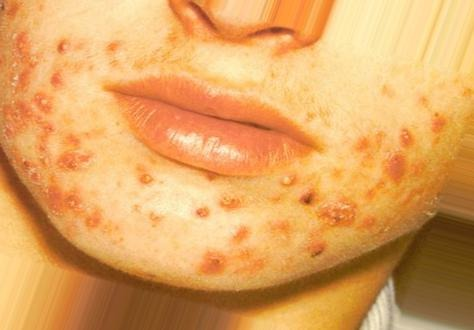Acne: (7, 30, 453, 287)
